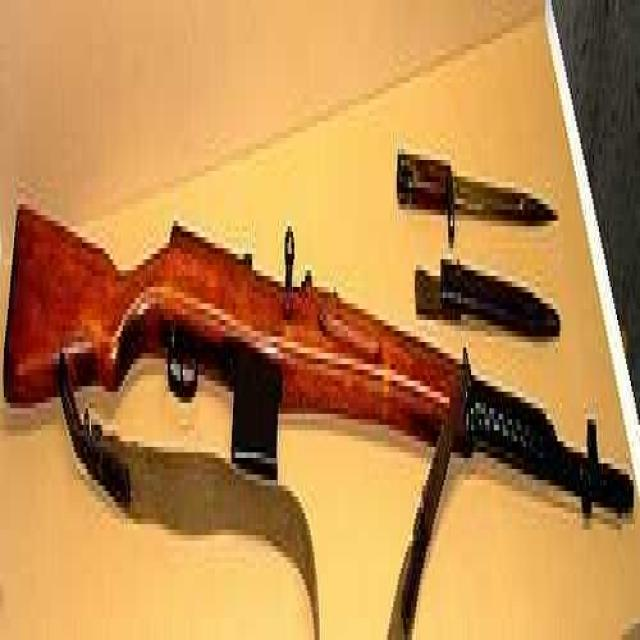heavyweapon: (7, 166, 639, 640)
